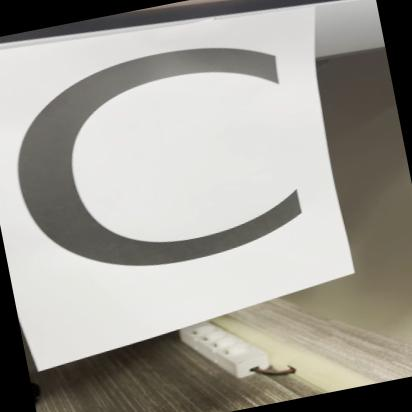seat: (0, 0, 378, 352)
